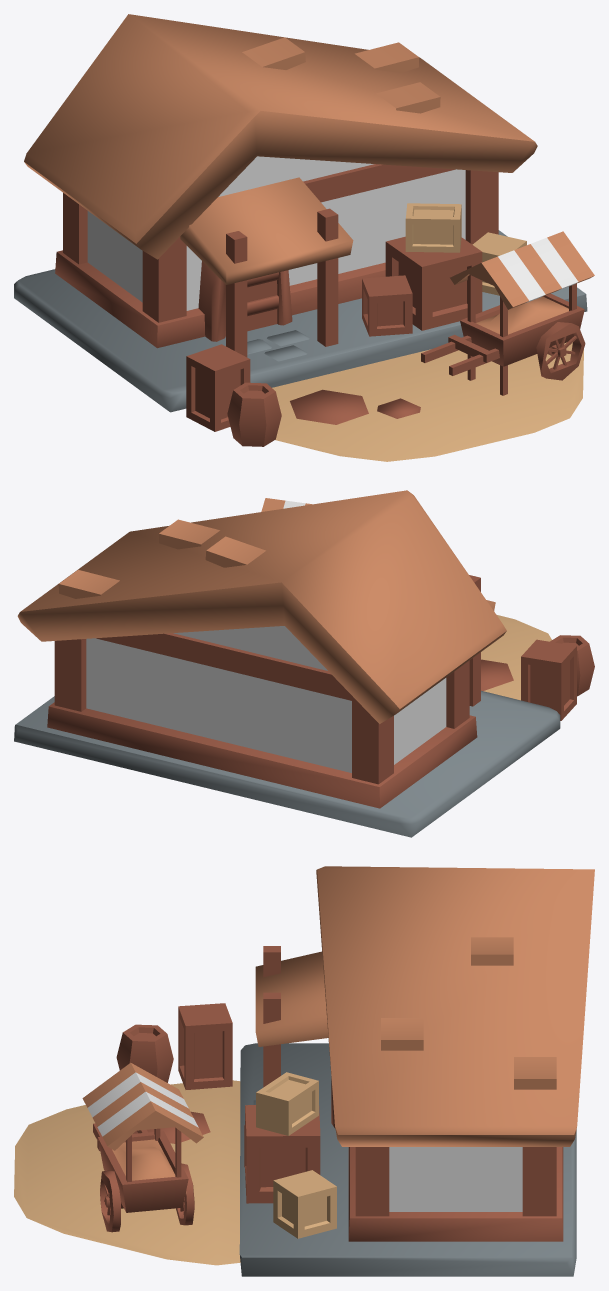
File: shop.glb
3 renders of one model, top to bottom at view 1: azimuth 30°, elevation 25°; view 2: azimuth 150°, elevation 25°; view 3: azimuth 270°, elevation 25°, orthographic. The views are drawn at different scales.
Parts seen in each view (by area): view 1: market; view 2: market; view 3: market.
Part boxes in pixels (x1,y1,x2,y2): market: (14,14,594,461); market: (14,490,594,837); market: (14,866,594,1276).
Bounding box in the file's own units: 1.47 × 0.8565 × 1.66.
